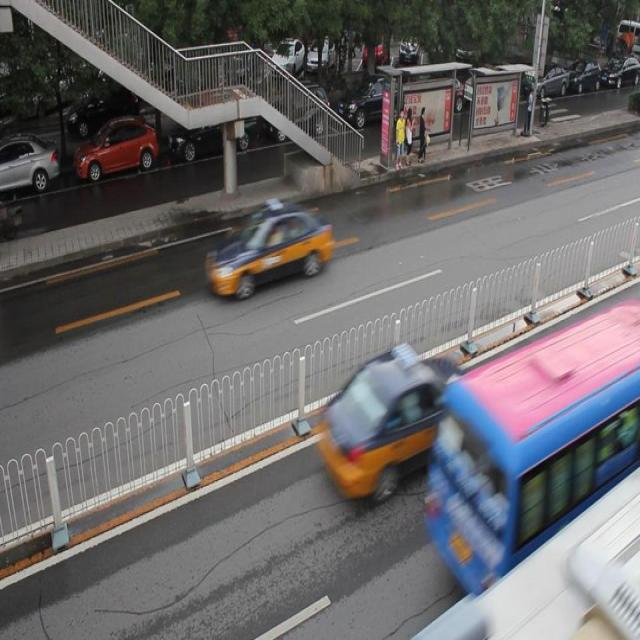car: (319, 340, 472, 496), (205, 202, 334, 298), (75, 118, 157, 184), (166, 104, 256, 160), (339, 68, 409, 130), (1, 135, 58, 196), (267, 86, 330, 140)
van: (428, 307, 640, 588), (426, 468, 640, 640)
